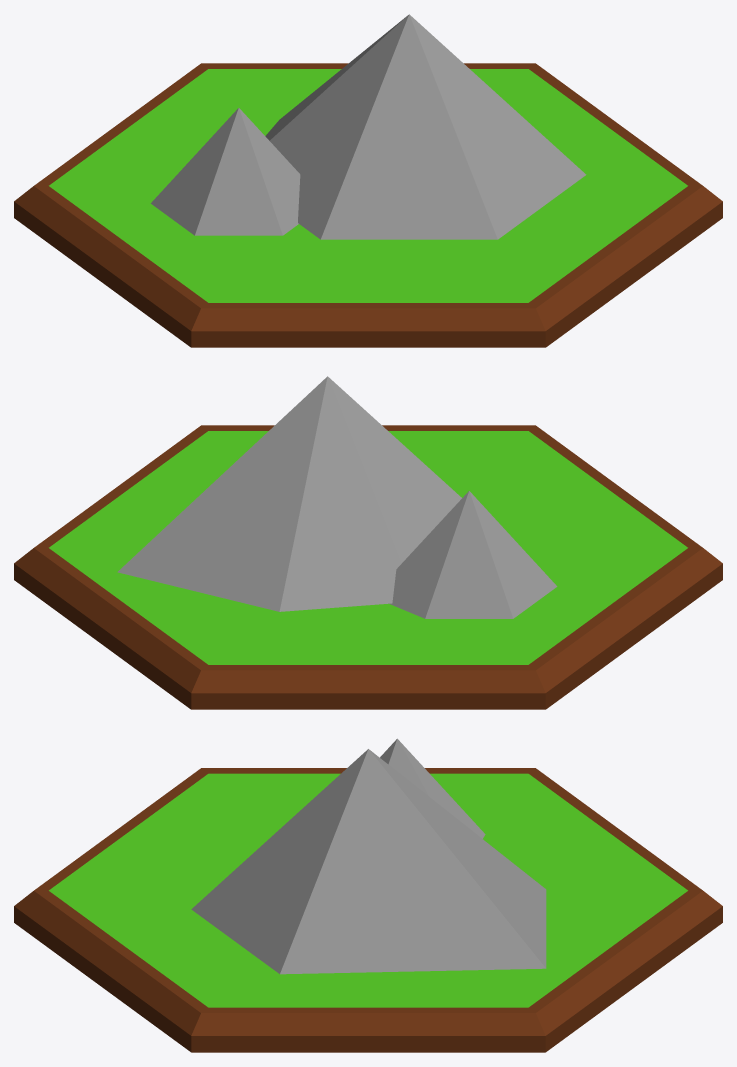
Rendered from hills_hex.fbx.
3 views of the same model, one above another, from view 1: azimuth 30°, elevation 25°; view 2: azimuth 150°, elevation 25°; view 3: azimuth 270°, elevation 25° (orthographic).
Parts seen in each view (by area): view 1: Base, Cone, Cone.001; view 2: Base, Cone, Cone.001; view 3: Base, Cone, Cone.001.
Part boxes in pixels (x1,y1,x2,y2): Base: [14, 63, 722, 347]; Cone: [265, 14, 586, 239]; Cone.001: [151, 108, 300, 235]; Base: [14, 425, 722, 709]; Cone: [117, 376, 461, 611]; Cone.001: [389, 491, 557, 618]; Base: [14, 768, 722, 1052]; Cone: [191, 749, 546, 974]; Cone.001: [380, 738, 485, 838].
Size of the model in its own units: 173 by 60.35 by 200.
